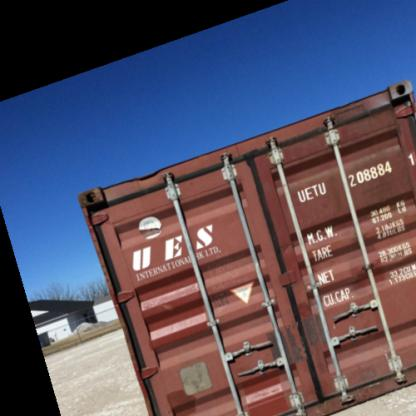Damage: (202, 256, 236, 306), (330, 101, 373, 130), (131, 166, 169, 196), (275, 233, 293, 255)
